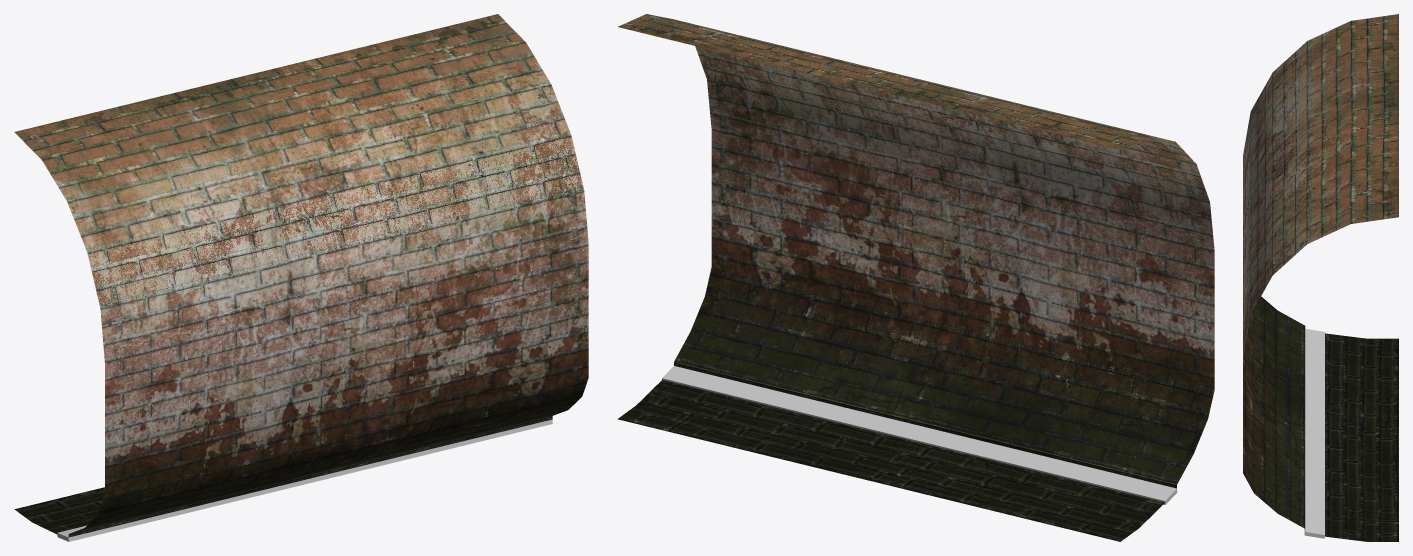
Rendered from TL_half.DAE.
3 views of the same model, side by side, from view 1: azimuth 30°, elevation 25°; view 2: azimuth 150°, elevation 25°; view 3: azimuth 270°, elevation 25° (orthographic). The views are drawn at different scales.
Visible parts, largest first — view 1: tunnel_low_half, tunnel_low_drain_half, tunnel_low_floor_half; view 2: tunnel_low_half, tunnel_low_floor_half, tunnel_low_drain_half; view 3: tunnel_low_half, tunnel_low_floor_half, tunnel_low_drain_half.
Boxes of the visible parts, x1,y1,x2,y2 form: tunnel_low_half: [14, 14, 588, 537]; tunnel_low_drain_half: [57, 419, 552, 541]; tunnel_low_floor_half: [14, 487, 104, 534]; tunnel_low_half: [618, 14, 1214, 488]; tunnel_low_floor_half: [617, 380, 1164, 541]; tunnel_low_drain_half: [662, 366, 1177, 504]; tunnel_low_half: [1243, 14, 1398, 528]; tunnel_low_floor_half: [1325, 333, 1398, 541]; tunnel_low_drain_half: [1304, 328, 1324, 538].
Bounding box in the file's own units: 4 × 1.3 × 2.98.
